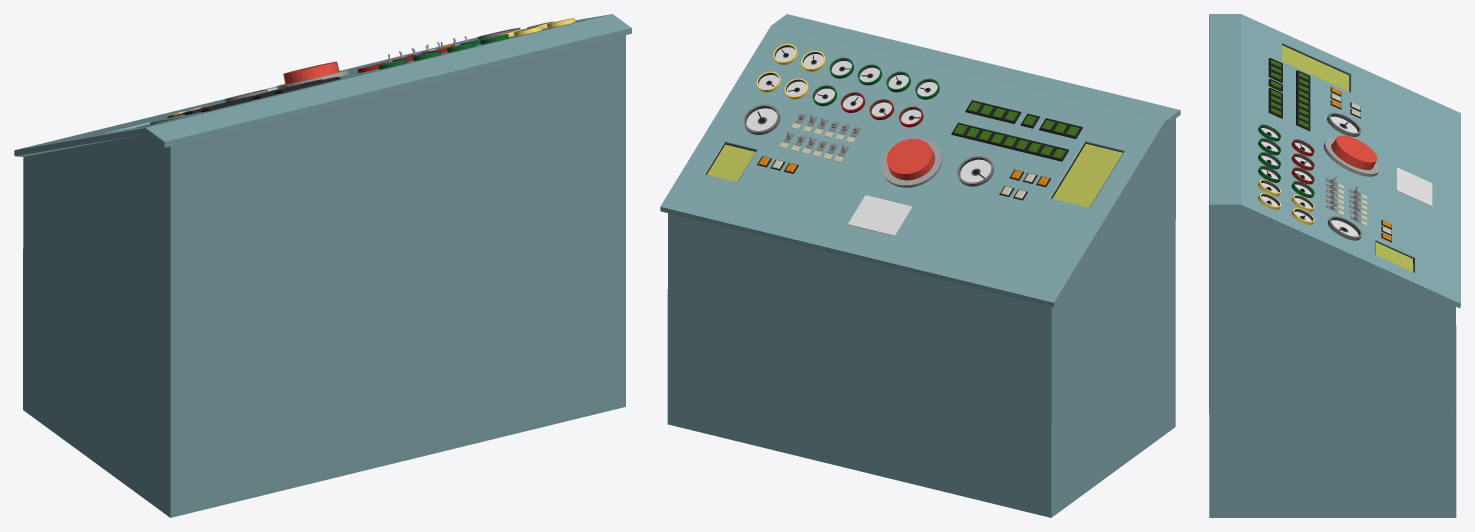
File: control_desk.fbx
3 views of the same model, side by side, from view 1: azimuth 30°, elevation 25°; view 2: azimuth 150°, elevation 25°; view 3: azimuth 270°, elevation 25° (orthographic). The views are drawn at different scales.
Visible parts, largest first — view 1: Cube.005, Button; view 2: Cube.005, Button, Fixture; view 3: Cube.005, Button, Fixture.
Part boxes in pixels (x1,y1,x2,y2): Cube.005: (14, 14, 631, 517); Button: (283, 61, 339, 84); Cube.005: (660, 14, 1180, 517); Button: (886, 138, 934, 180); Fixture: (881, 138, 942, 187); Cube.005: (1209, 14, 1460, 517); Button: (1331, 135, 1377, 169); Fixture: (1323, 138, 1379, 176).
Bounding box in the file's own units: 125 × 96.84 × 70.05.
